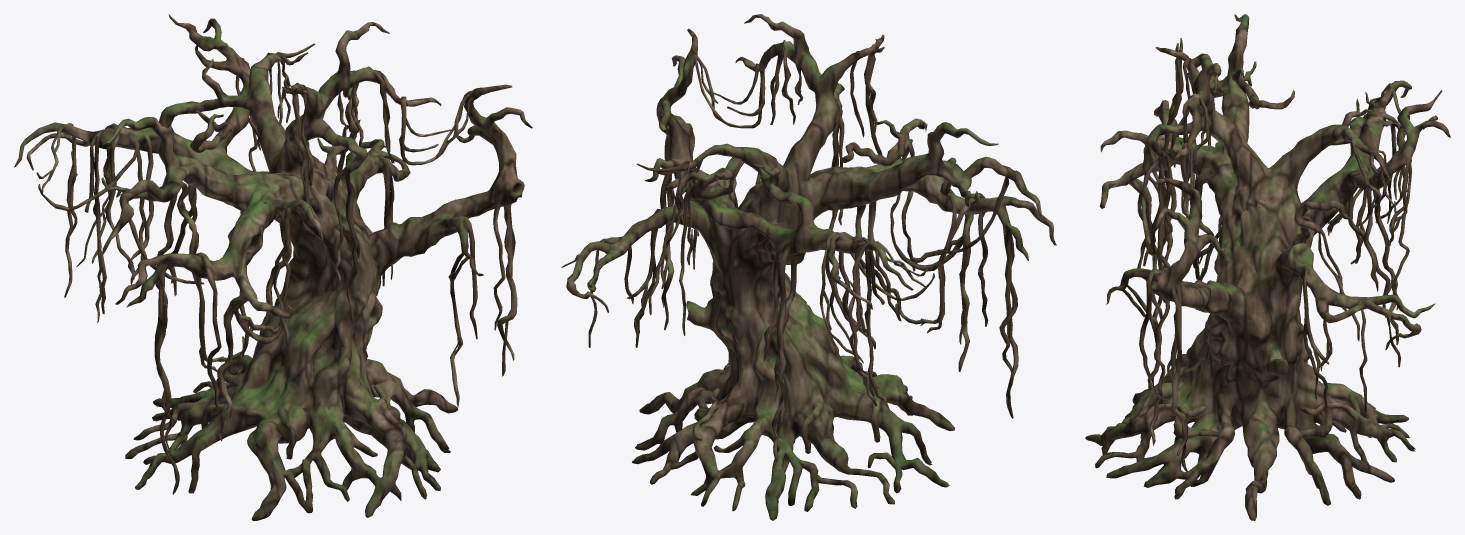
The model's file is balete.glb.
3 views of the same model, side by side, from view 1: azimuth 30°, elevation 25°; view 2: azimuth 150°, elevation 25°; view 3: azimuth 270°, elevation 25° (orthographic). The views are drawn at different scales.
Visible parts, largest first — view 1: balete; view 2: balete; view 3: balete.
Part boxes in pixels (<box>): balete: <box>14,14,532,520</box>; balete: <box>561,14,1056,520</box>; balete: <box>1085,14,1450,520</box>.
Size of the model in its own units: 0.978 by 0.9795 by 0.806.
1 material, 1 textured.
